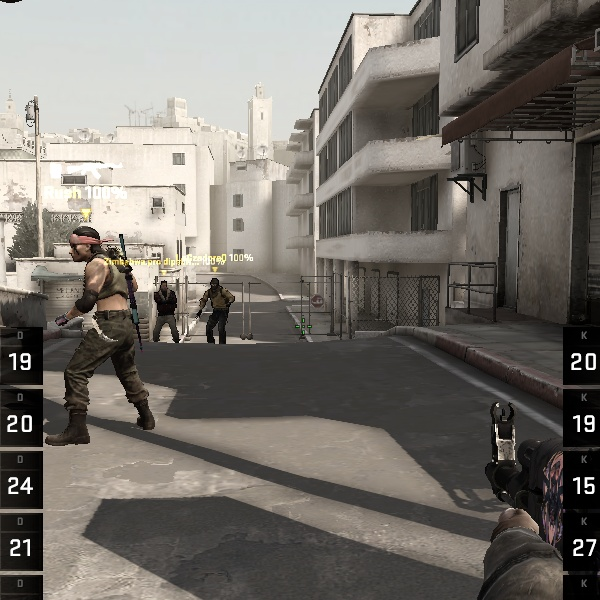t_body: (65, 225, 156, 447), (200, 277, 231, 344), (153, 280, 180, 343)
t_head: (68, 226, 101, 265), (209, 277, 220, 291), (159, 280, 169, 292)
